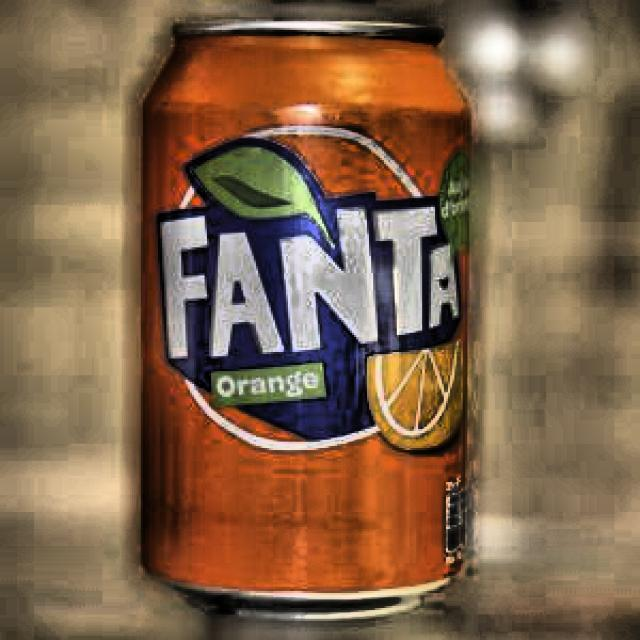Cans: (127, 17, 493, 629)
